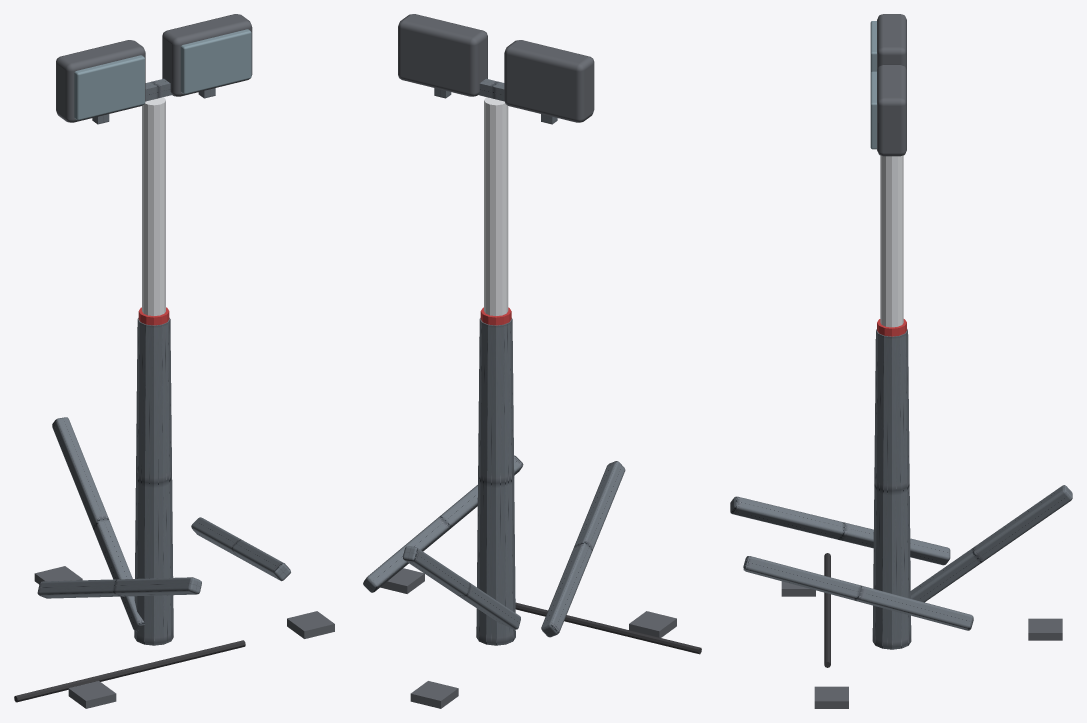
The picture shows the model from 3 angles, left to right: view 1: azimuth 30°, elevation 25°; view 2: azimuth 150°, elevation 25°; view 3: azimuth 270°, elevation 25°; orthographic projection. The views are drawn at different scales.
Parts seen in each view (by area): view 1: floodlight-mast, mast-tilt/glass, mast-tilt/plastic, mast-tilt/tread; view 2: floodlight-mast, mast-tilt/plastic, mast-tilt/tread; view 3: floodlight-mast, mast-tilt/plastic, mast-tilt/glass.
Part boxes in pixels (x1=…): floodlight-mast: x1=14, y1=97, x2=334, y2=708; mast-tilt/glass: x1=74, y1=29, x2=251, y2=120; mast-tilt/plastic: x1=56, y1=14, x2=252, y2=122; mast-tilt/tread: x1=92, y1=78, x2=215, y2=124; floodlight-mast: x1=363, y1=97, x2=701, y2=708; mast-tilt/plastic: x1=398, y1=14, x2=594, y2=122; mast-tilt/tread: x1=434, y1=78, x2=557, y2=124; floodlight-mast: x1=730, y1=155, x2=1072, y2=708; mast-tilt/plastic: x1=877, y1=14, x2=906, y2=156; mast-tilt/glass: x1=870, y1=21, x2=876, y2=149.
Bounding box in the file's own units: 1.64 × 3.01 × 1.6.
Materials: 6 (1 with a texture image).
